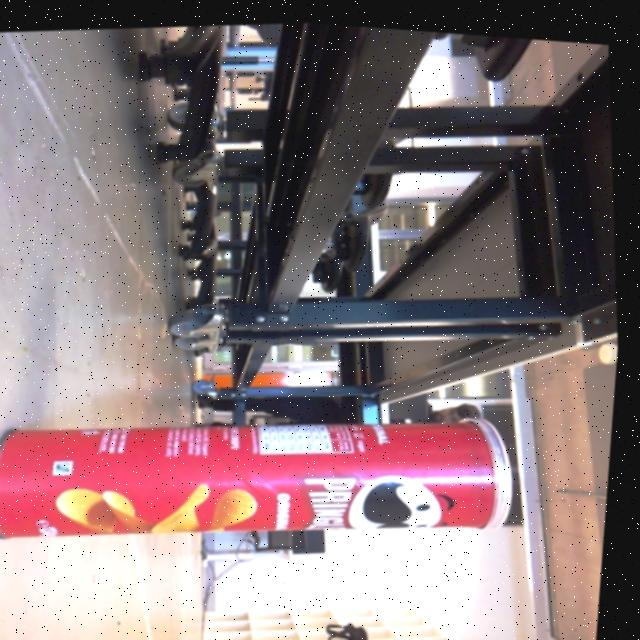redpringles: (0, 362, 533, 605)
